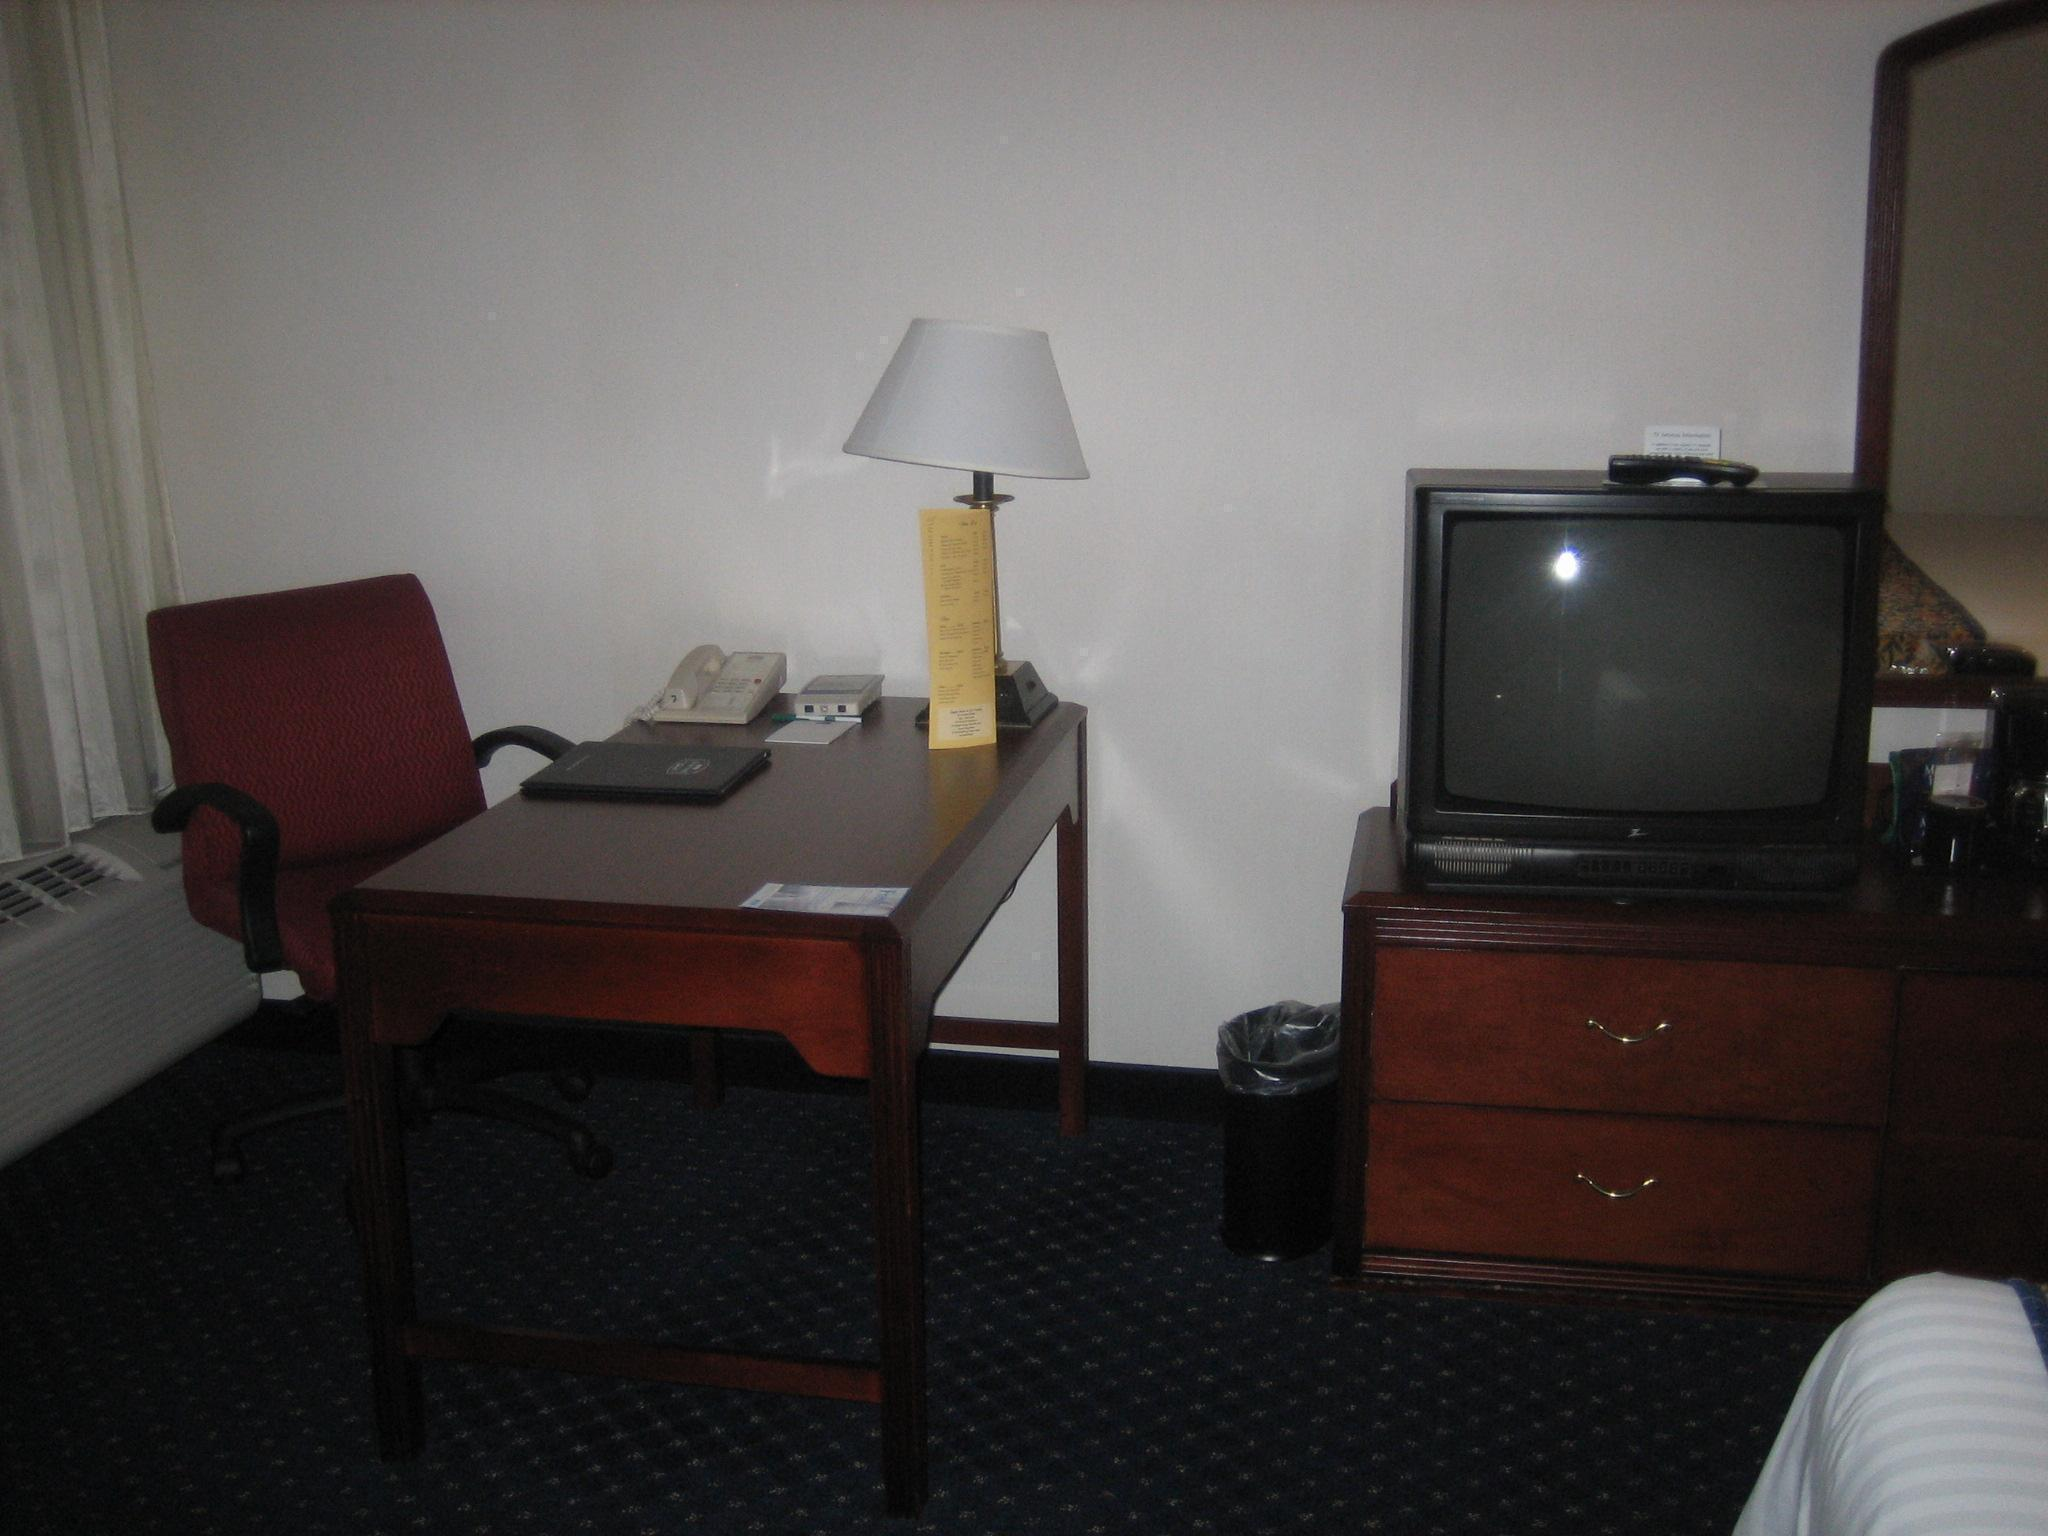Otro Obstaculo: (1206, 991, 1355, 1270)
